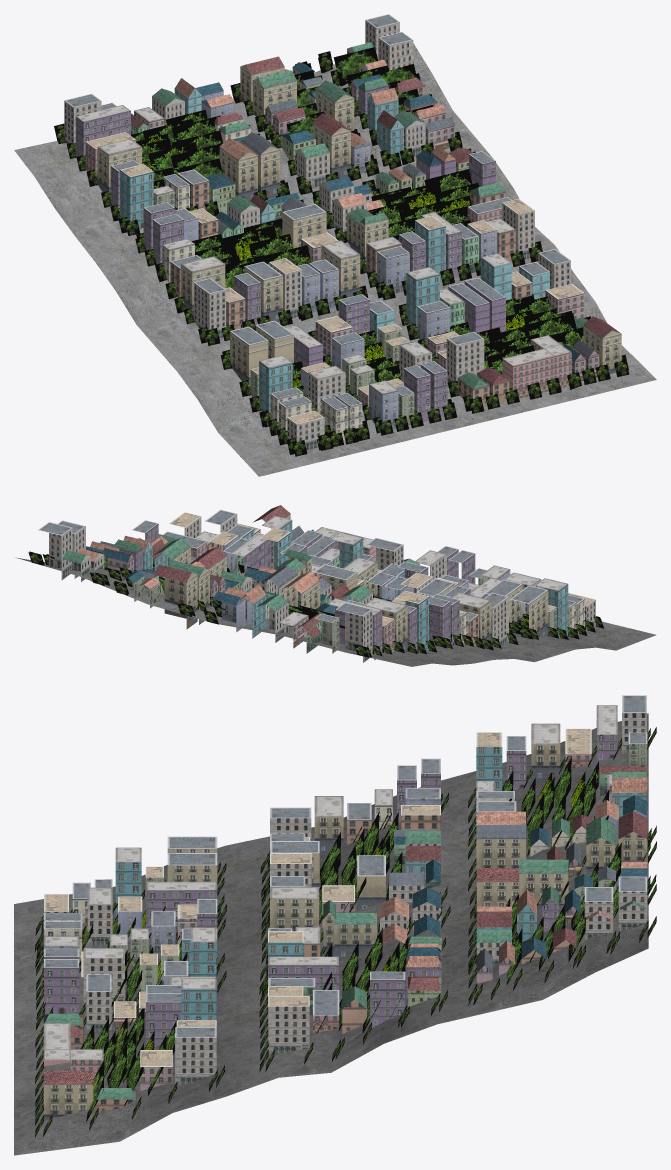
File: BGHouseC.obj
The picture shows the model from 3 angles, top to bottom: view 1: azimuth 30°, elevation 25°; view 2: azimuth 150°, elevation 25°; view 3: azimuth 270°, elevation 25°; orthographic projection. The views are drawn at different scales.
Visible parts, largest first — view 1: ct2_05_f1_yk1_bghouseC_000; view 2: ct2_05_f1_yk1_bghouseC_000; view 3: ct2_05_f1_yk1_bghouseC_000.
Boxes of the visible parts, bbox=[...] form: ct2_05_f1_yk1_bghouseC_000: bbox=[14, 14, 656, 476]; ct2_05_f1_yk1_bghouseC_000: bbox=[15, 505, 655, 666]; ct2_05_f1_yk1_bghouseC_000: bbox=[14, 695, 656, 1155].
Size of the model in its own units: 308 by 145 by 333.
